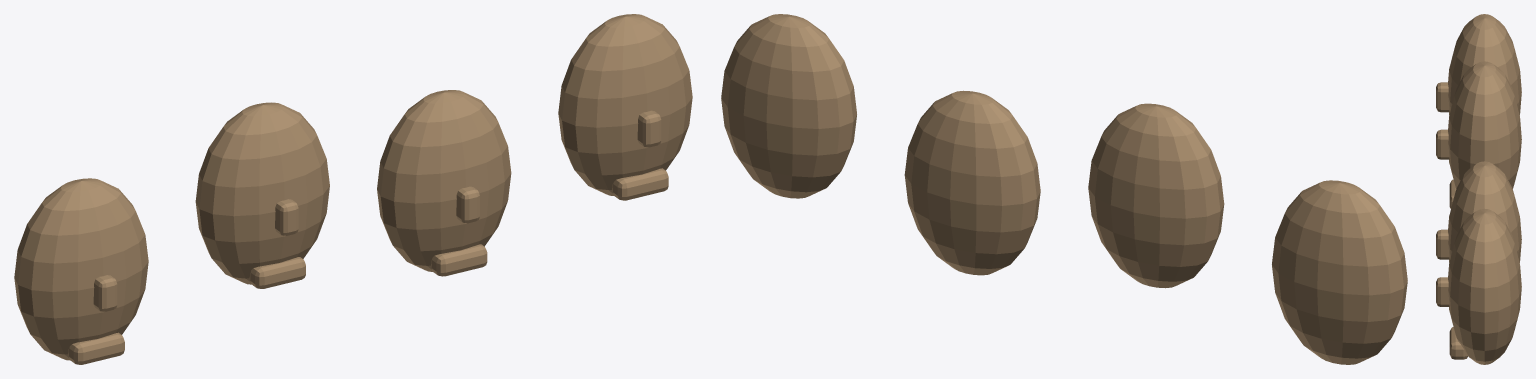
Rendered from HokageFaces_HokageRock.fbx.
3 views of the same model, side by side, from view 1: azimuth 30°, elevation 25°; view 2: azimuth 150°, elevation 25°; view 3: azimuth 270°, elevation 25° (orthographic). The views are drawn at different scales.
Parts seen in each view (by area): view 1: Head0.001; view 2: Head0.001; view 3: Head0.001.
Boxes of the visible parts, x1,y1,x2,y2 form: Head0.001: [14, 14, 692, 364]; Head0.001: [721, 14, 1407, 364]; Head0.001: [1436, 14, 1521, 364].
Size of the model in its own units: 6660 by 1980 by 885.
